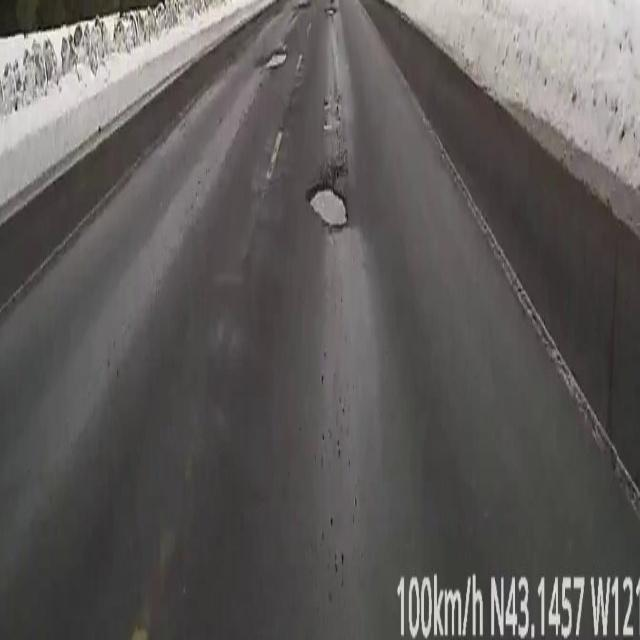pothole: (309, 184, 346, 228), (266, 46, 286, 70)
